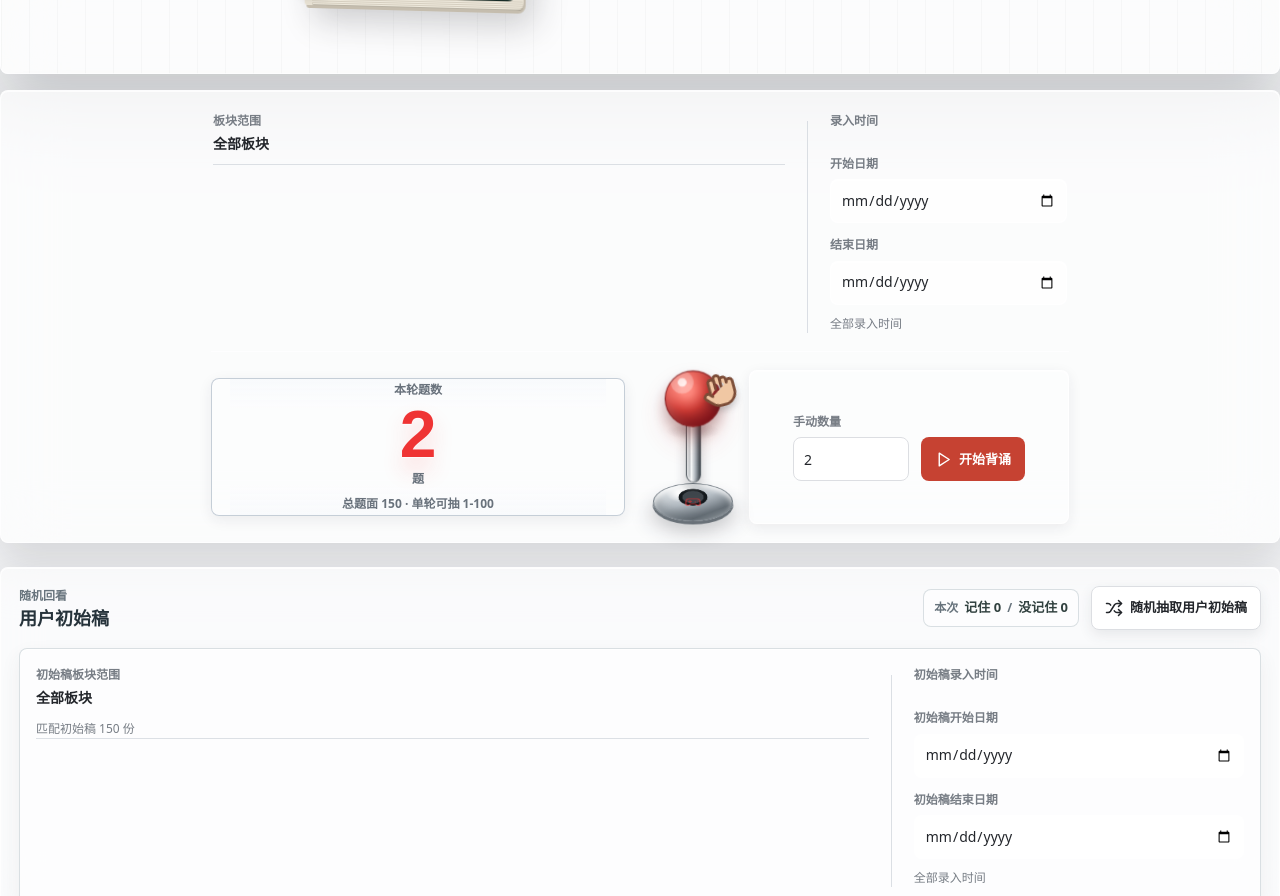
Test case: 不会标注背诵页 › 候选超过一百时以单轮上限抽取，减弱动效不执行快速滚动
The image size is (1280, 896).
(page scrolled)
Click the button named "下拉摇杆随机抽取题数" at (693, 447), box x1=643 y1=371 x2=743 y2=523
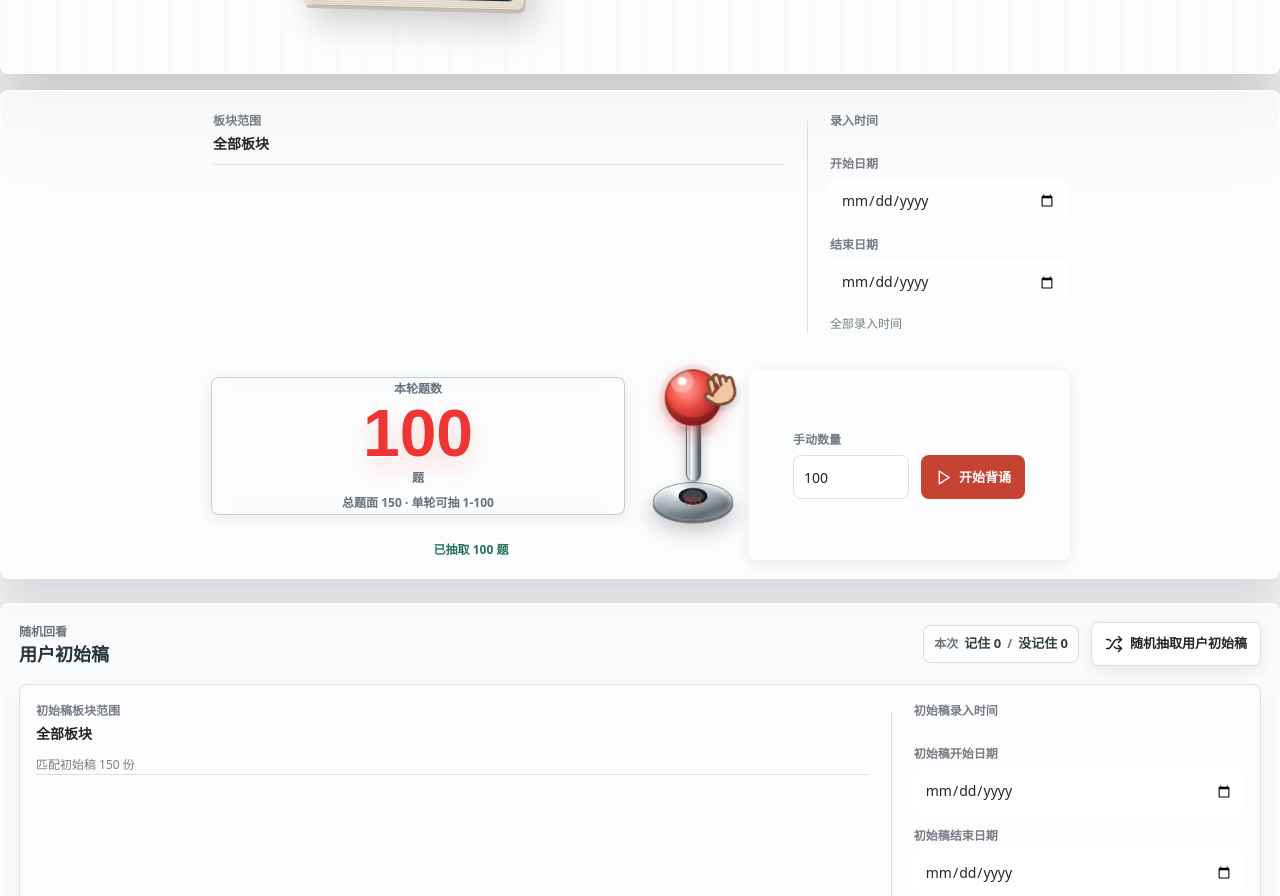
Expected: the text "广陵对应哪里？" is not shown
Now the text "已抽取 100 题" is shown, box x1=434 y1=540 x2=508 y2=560
Click the button "开始背诵" at (973, 477), box x1=921 y1=455 x2=1025 y2=499
(page scrolled)
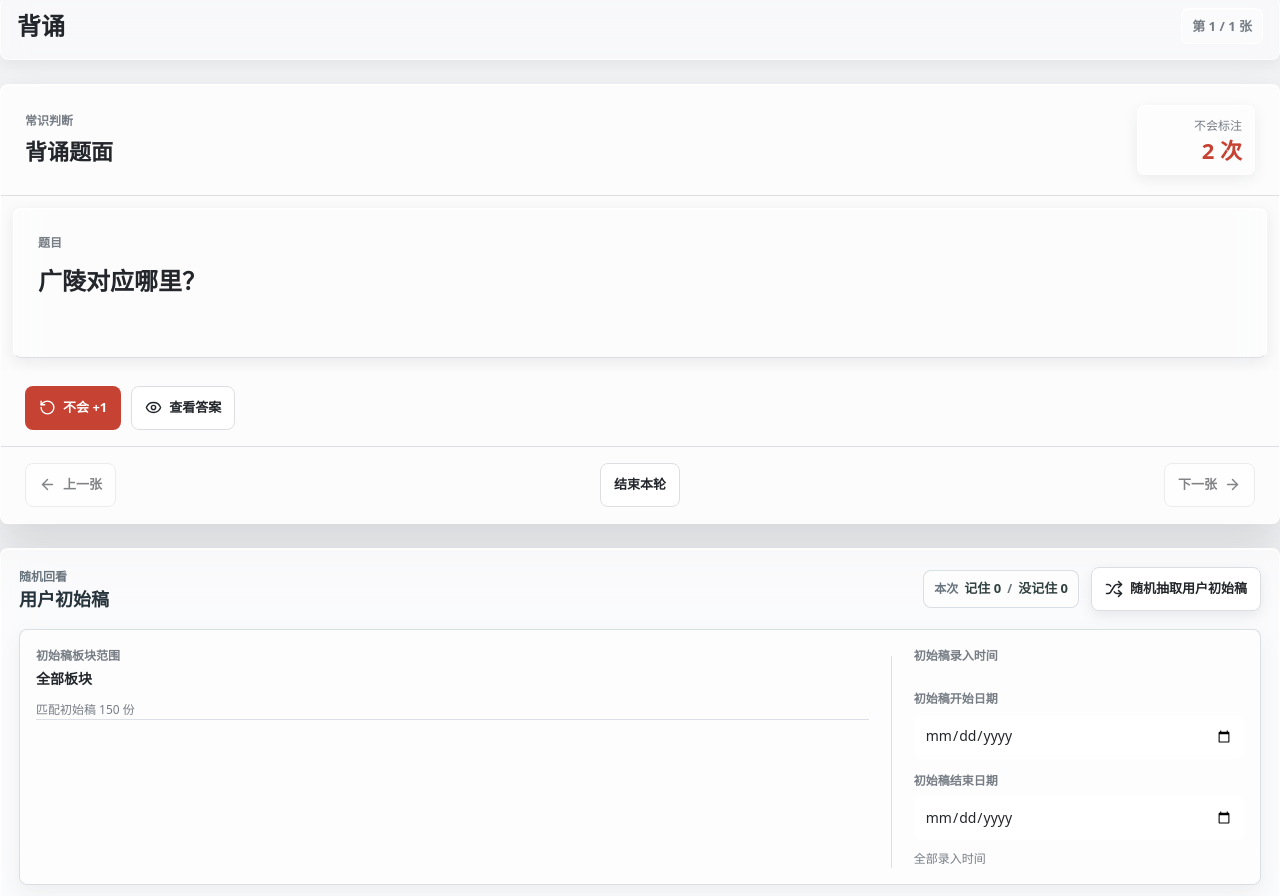
Now the text "广陵对应哪里？" is shown, box x1=38 y1=264 x2=206 y2=297
